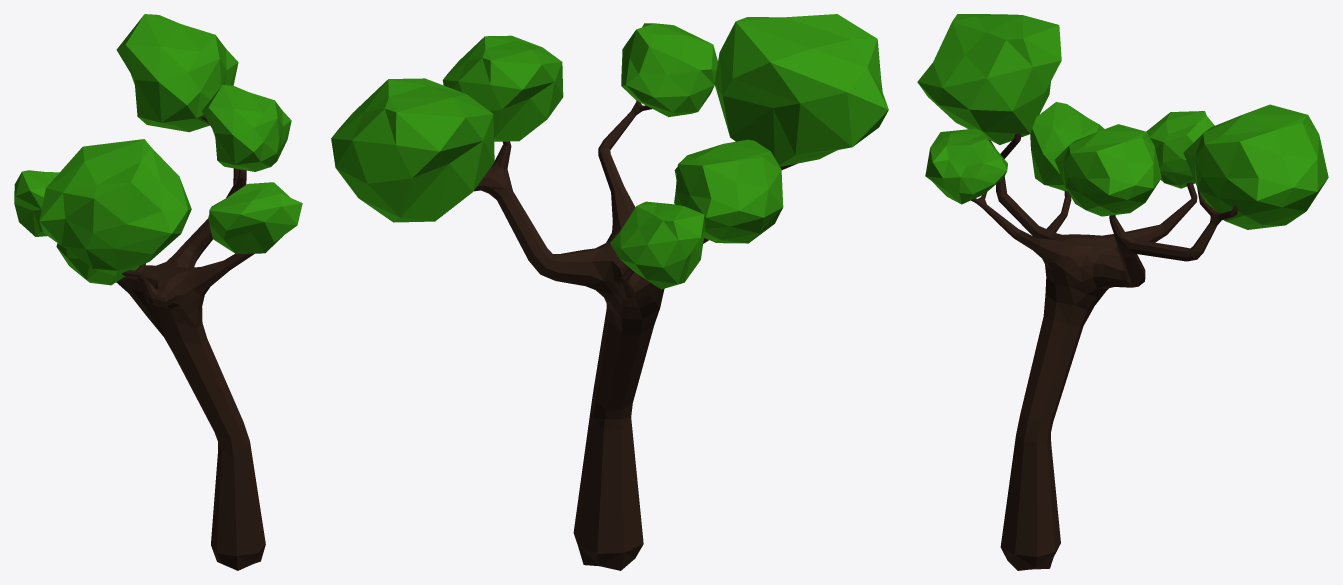
File: tree1.1.obj
The picture shows the model from 3 angles, left to right: view 1: azimuth 30°, elevation 25°; view 2: azimuth 150°, elevation 25°; view 3: azimuth 270°, elevation 25°; orthographic projection. The views are drawn at different scales.
Parts seen in each view (by area): view 1: Tree1.1_Icosphere.005; view 2: Tree1.1_Icosphere.005; view 3: Tree1.1_Icosphere.005.
Part boxes in pixels (x1=…): Tree1.1_Icosphere.005: x1=14, y1=14, x2=302, y2=570; Tree1.1_Icosphere.005: x1=331, y1=14, x2=888, y2=570; Tree1.1_Icosphere.005: x1=917, y1=14, x2=1328, y2=570.
Size of the model in its own units: 3.43 by 4.69 by 3.64.
